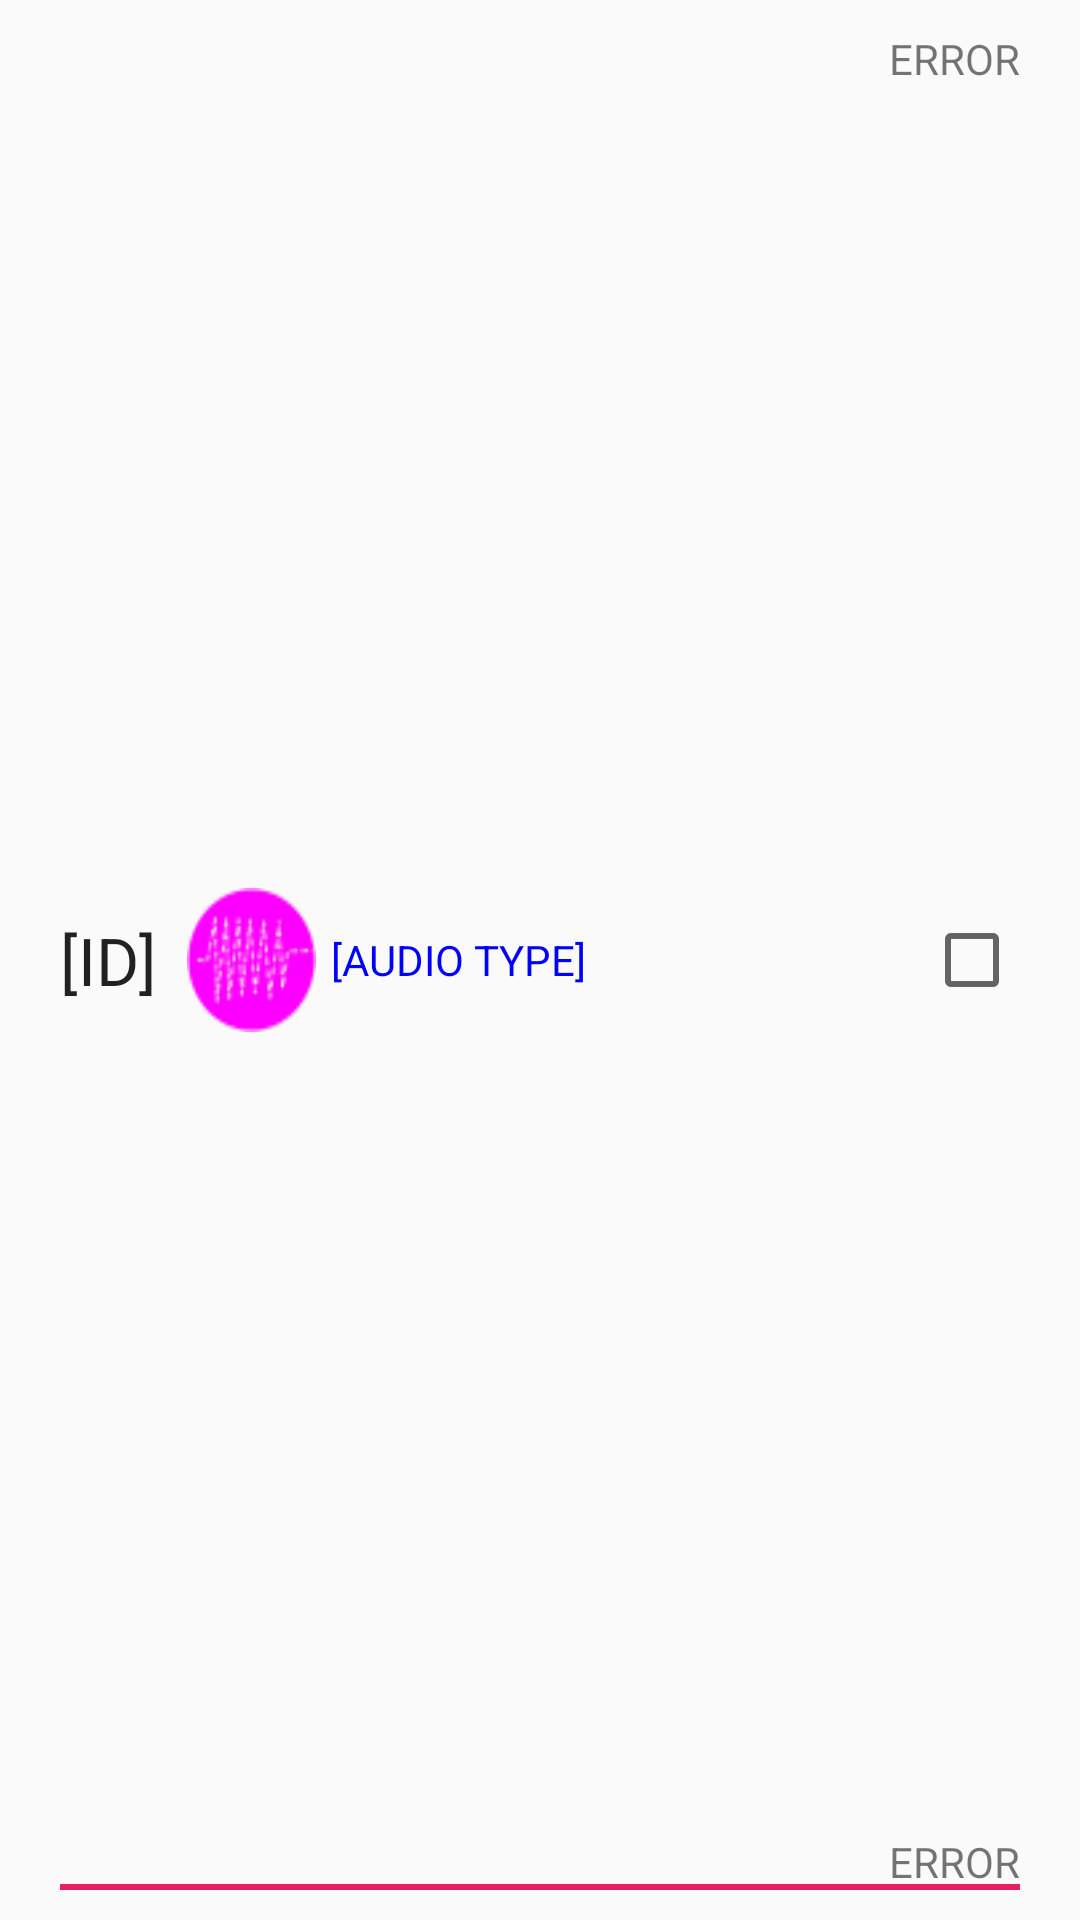

Screen size 1080px x 1920px. Icon name, then its box in pixels as {"x1": x1, "y1": y1, "x2": x2, "y2": y2}:
timeseries: {"x1": 187, "y1": 888, "x2": 316, "y2": 1032}
